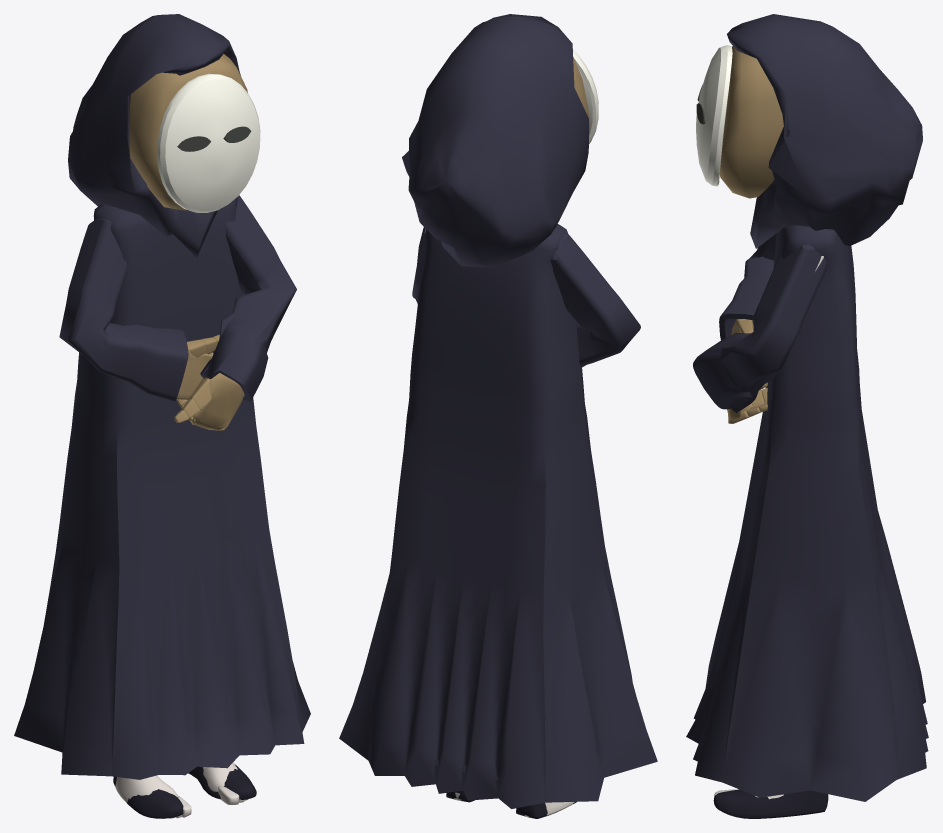
The model's file is Capricorn.fbx.
3 renders of one model, left to right at view 1: azimuth 30°, elevation 25°; view 2: azimuth 150°, elevation 25°; view 3: azimuth 270°, elevation 25°, orthographic.
Visible parts, largest first — view 1: polySurface3, Caputxa, polySurface8, màscara, polySurface9, head_geo, R_palm_R_geo (×2), foot_R_geo, foot_L_geo, foot_R_geo1; view 2: polySurface3, Caputxa, polySurface8, màscara; view 3: polySurface3, Caputxa, polySurface9, head_geo, màscara, foot_L_geo, polySurface8.
Boxes of the visible parts, <box> form: polySurface3: <box>14,197,310,779</box>; Caputxa: <box>68,14,240,257</box>; polySurface8: <box>59,218,188,401</box>; màscara: <box>157,73,260,212</box>; polySurface9: <box>200,195,296,401</box>; head_geo: <box>129,53,247,210</box>; R_palm_R_geo (×2): <box>176,351,244,430</box>; foot_R_geo: <box>113,776,183,818</box>; foot_L_geo: <box>188,764,256,799</box>; foot_R_geo1: <box>115,775,178,802</box>; polySurface3: <box>339,224,657,808</box>; Caputxa: <box>402,14,588,267</box>; polySurface8: <box>550,232,640,367</box>; màscara: <box>573,49,598,143</box>; polySurface3: <box>686,225,928,801</box>; Caputxa: <box>727,14,922,248</box>; polySurface9: <box>693,244,827,413</box>; head_geo: <box>719,46,783,198</box>; màscara: <box>696,45,732,186</box>; foot_L_geo: <box>713,789,828,818</box>; polySurface8: <box>719,233,776,340</box>.
Bounding box in the file's own units: 1.24 × 3.48 × 0.9859.
